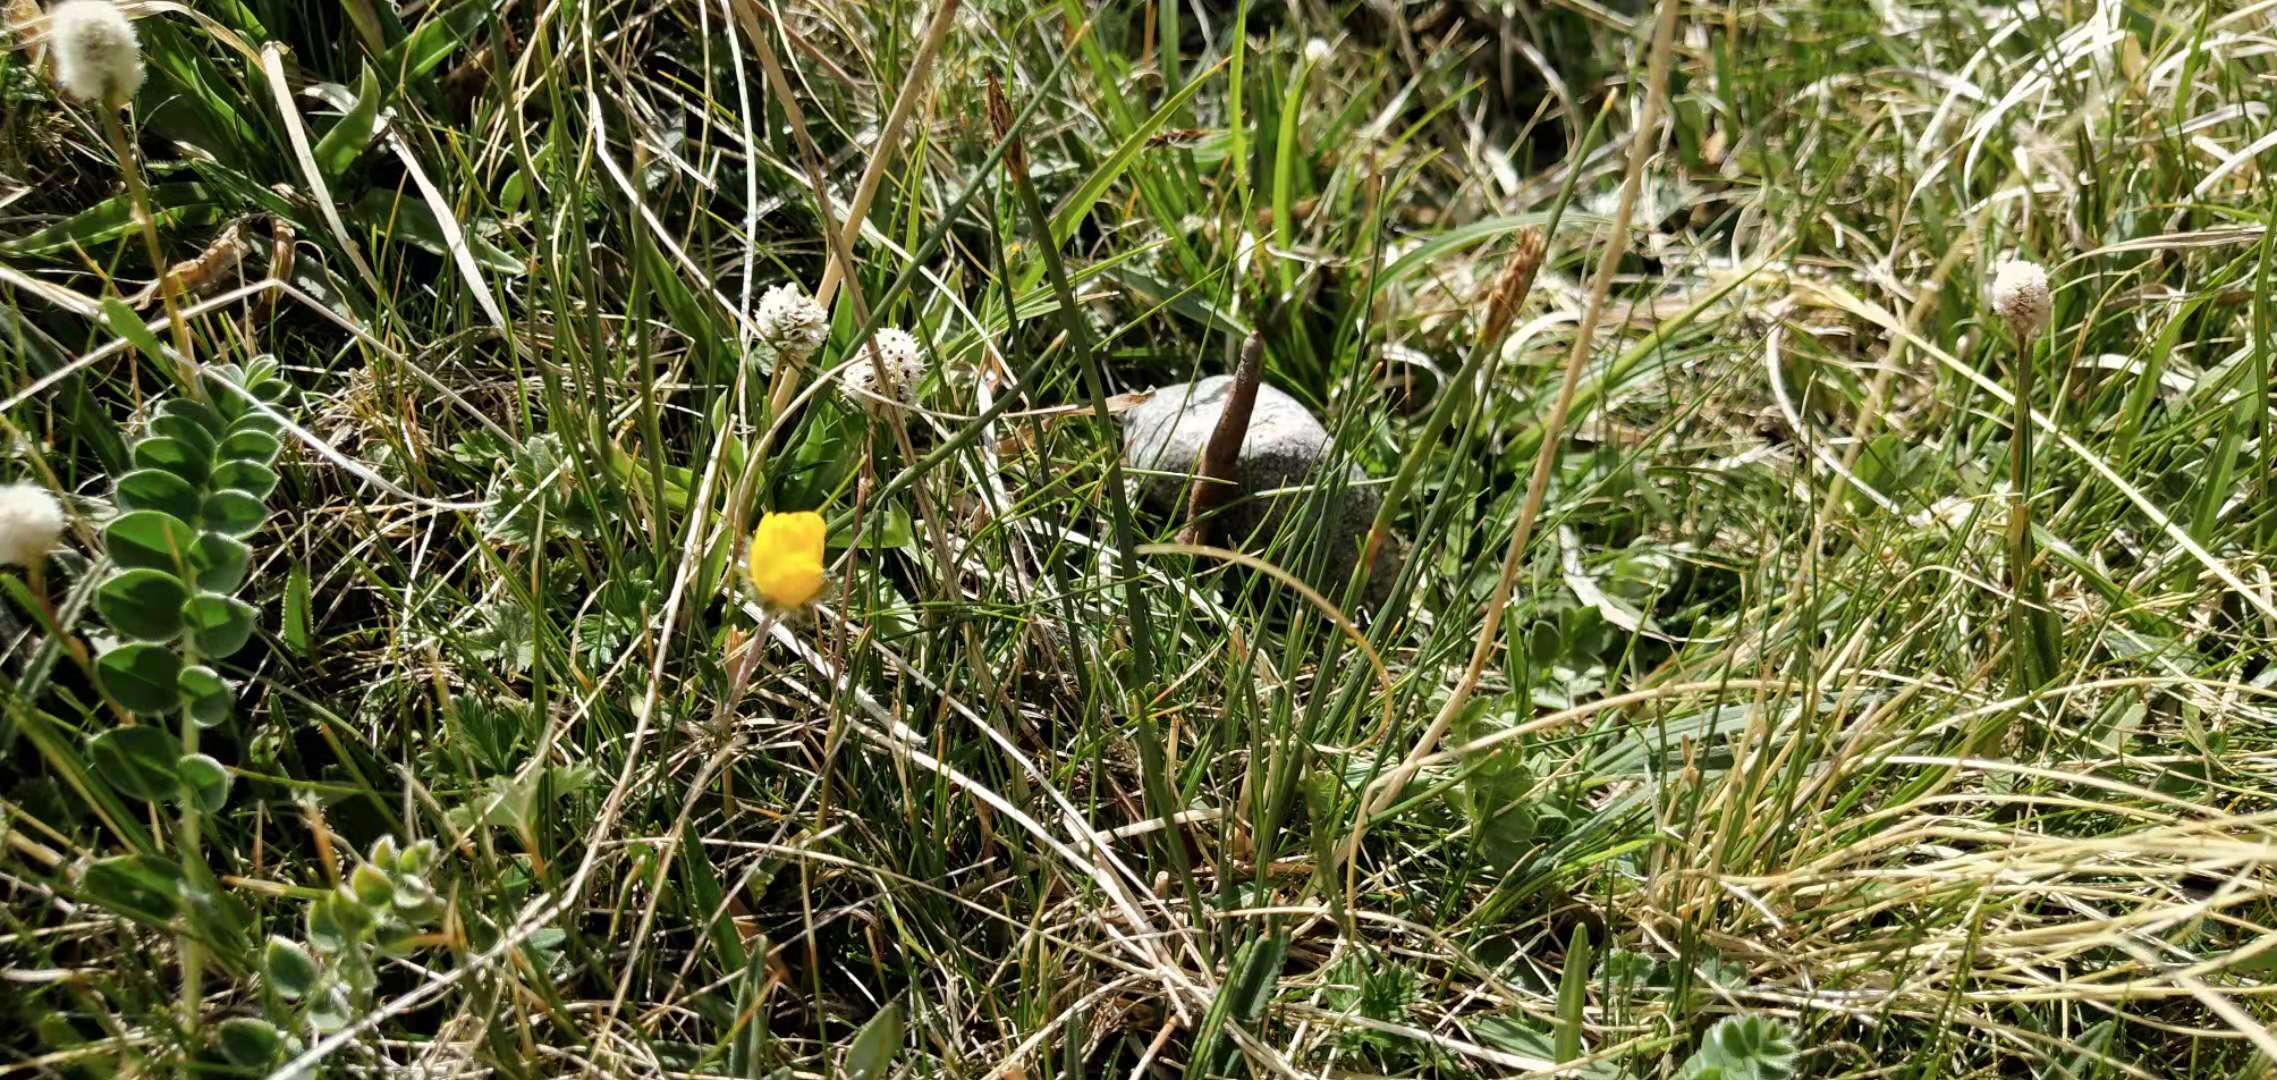w: (1178, 330, 1265, 549)
